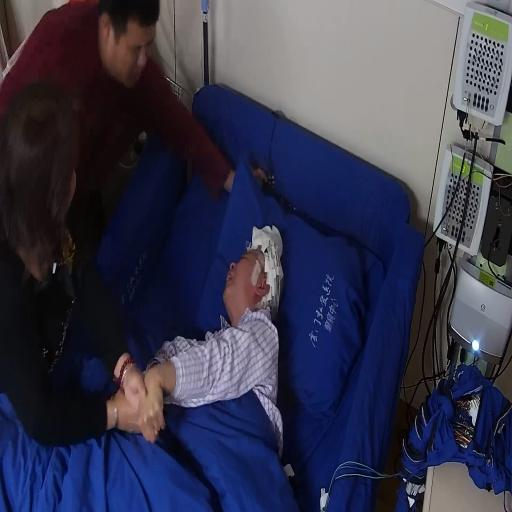Seizure: (222, 234, 276, 319)
